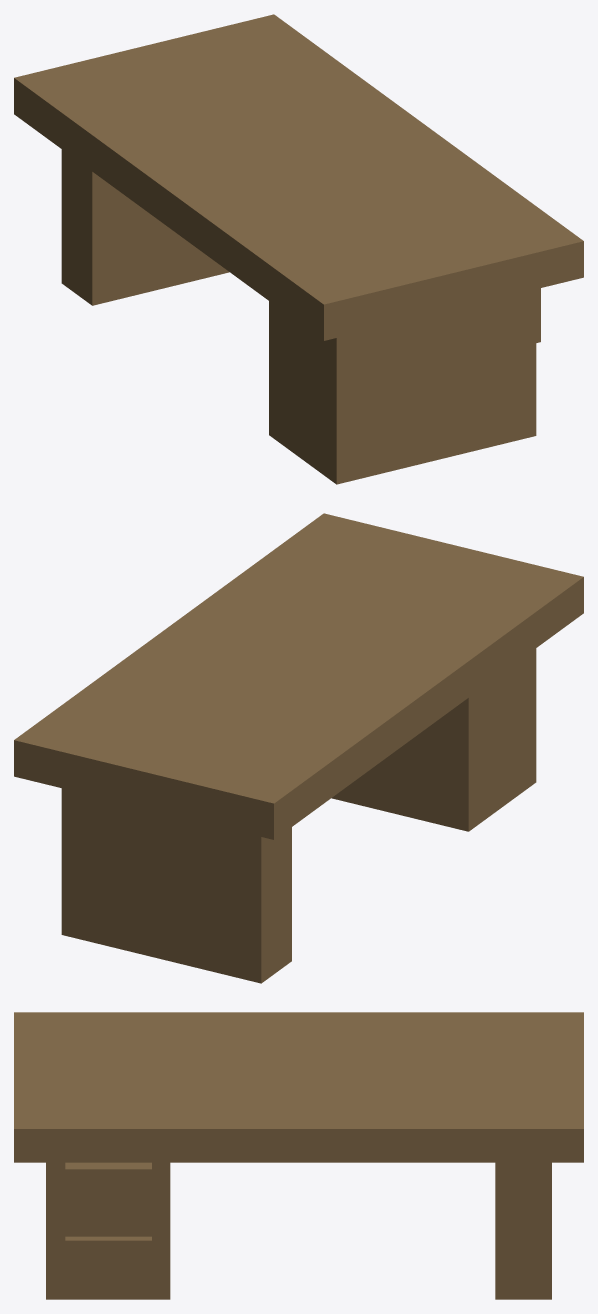
The model's file is desk.fbx.
The picture shows the model from 3 angles, top to bottom: view 1: azimuth 30°, elevation 25°; view 2: azimuth 150°, elevation 25°; view 3: azimuth 270°, elevation 25°; orthographic projection. The views are drawn at different scales.
Parts seen in each view (by area): view 1: Cube; view 2: Cube; view 3: Cube.
Part boxes in pixels (x1,y1,x2,y2): Cube: [14, 14, 583, 484]; Cube: [14, 513, 583, 983]; Cube: [14, 1012, 583, 1299].
Bounding box in the file's own units: 260 × 191 × 537.
